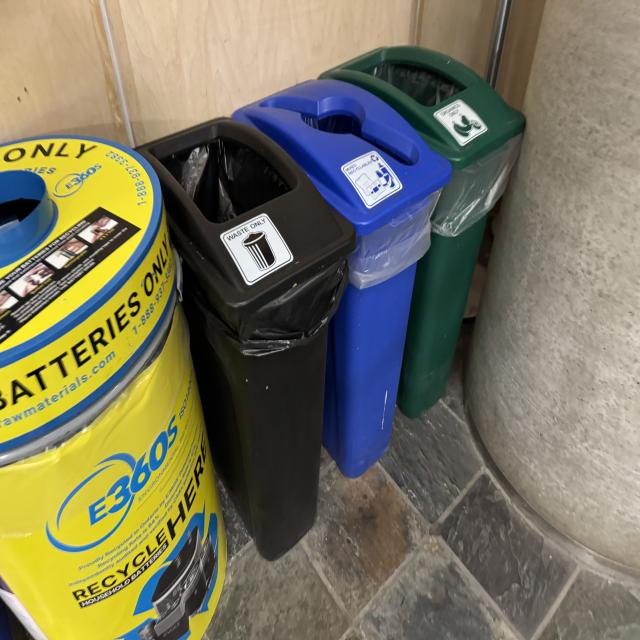Dustbin: (132, 46, 528, 560)
